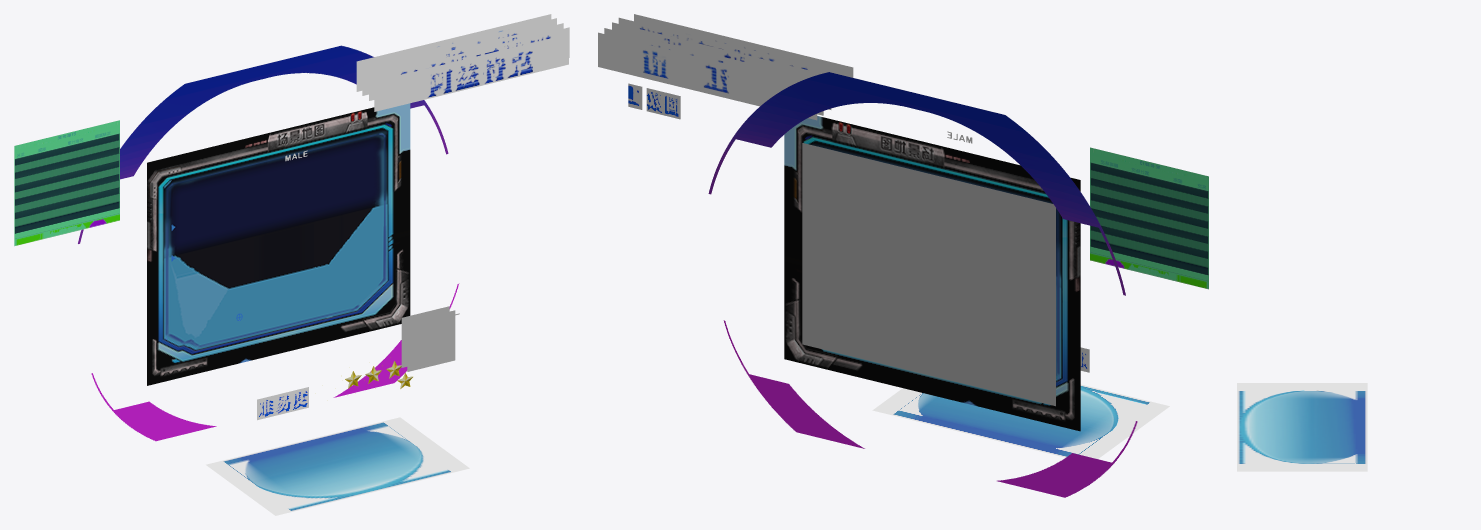
File: tr_menu_map.FBX
3 renders of one model, left to right at view 1: azimuth 30°, elevation 25°; view 2: azimuth 150°, elevation 25°; view 3: azimuth 270°, elevation 25°, orthographic. The views are drawn at different scales.
Visible parts, largest first — view 1: tr_mo_mu_mapflame_01, tr_mo_mu_frame, tr_mo_mu_hitparade, tr_mo_mu_circle_b01, tr_mo_mu_Chile_b01, tr_mo_mu_circle_b02, tr_mo_mu_littlemap_a002, tr_mo_mu_Venice_b01, tr_mo_mu_tokyo_b01, tr_mo_mu_china_b01, tr_mo_mu_Siberia_b01, tr_mo_mu_hard; view 2: tr_mo_mu_China_a01, tr_mo_mu_mapflame_01, tr_mo_mu_hitparade, tr_mo_mu_circle_b01, tr_mo_mu_frame, tr_mo_mu_china_b01, tr_mo_mu_circle_b02, tr_mo_mu_Chile_b01, tr_mo_mu_Siberia_b01, tr_mo_mu_tokyo_b01, tr_mo_mu_Venice_b01, tr_mo_mu_lap; view 3: tr_mo_mu_frame.
Part boxes in pixels (bbox=[...]): tr_mo_mu_mapflame_01: bbox=[147, 103, 410, 385]; tr_mo_mu_frame: bbox=[206, 417, 469, 515]; tr_mo_mu_hitparade: bbox=[14, 120, 119, 246]; tr_mo_mu_circle_b01: bbox=[78, 45, 448, 243]; tr_mo_mu_Chile_b01: bbox=[374, 34, 568, 111]; tr_mo_mu_circle_b02: bbox=[91, 283, 459, 441]; tr_mo_mu_littlemap_a002: bbox=[407, 310, 455, 371]; tr_mo_mu_Venice_b01: bbox=[362, 18, 556, 95]; tr_mo_mu_tokyo_b01: bbox=[374, 27, 569, 81]; tr_mo_mu_china_b01: bbox=[356, 14, 551, 91]; tr_mo_mu_Siberia_b01: bbox=[369, 23, 563, 100]; tr_mo_mu_hard: bbox=[257, 387, 308, 420]; tr_mo_mu_China_a01: bbox=[802, 143, 1055, 406]; tr_mo_mu_mapflame_01: bbox=[784, 116, 1080, 431]; tr_mo_mu_hitparade: bbox=[1090, 147, 1208, 289]; tr_mo_mu_circle_b01: bbox=[708, 72, 1125, 295]; tr_mo_mu_frame: bbox=[872, 384, 1169, 458]; tr_mo_mu_china_b01: bbox=[598, 32, 817, 120]; tr_mo_mu_circle_b02: bbox=[723, 320, 1137, 497]; tr_mo_mu_Chile_b01: bbox=[634, 14, 853, 77]; tr_mo_mu_Siberia_b01: bbox=[612, 22, 831, 109]; tr_mo_mu_tokyo_b01: bbox=[618, 17, 837, 73]; tr_mo_mu_Venice_b01: bbox=[604, 28, 823, 115]; tr_mo_mu_lap: bbox=[646, 88, 680, 119]; tr_mo_mu_frame: bbox=[1237, 383, 1367, 471].
Bounding box in the file's own units: 169 × 101 × 66.69.
